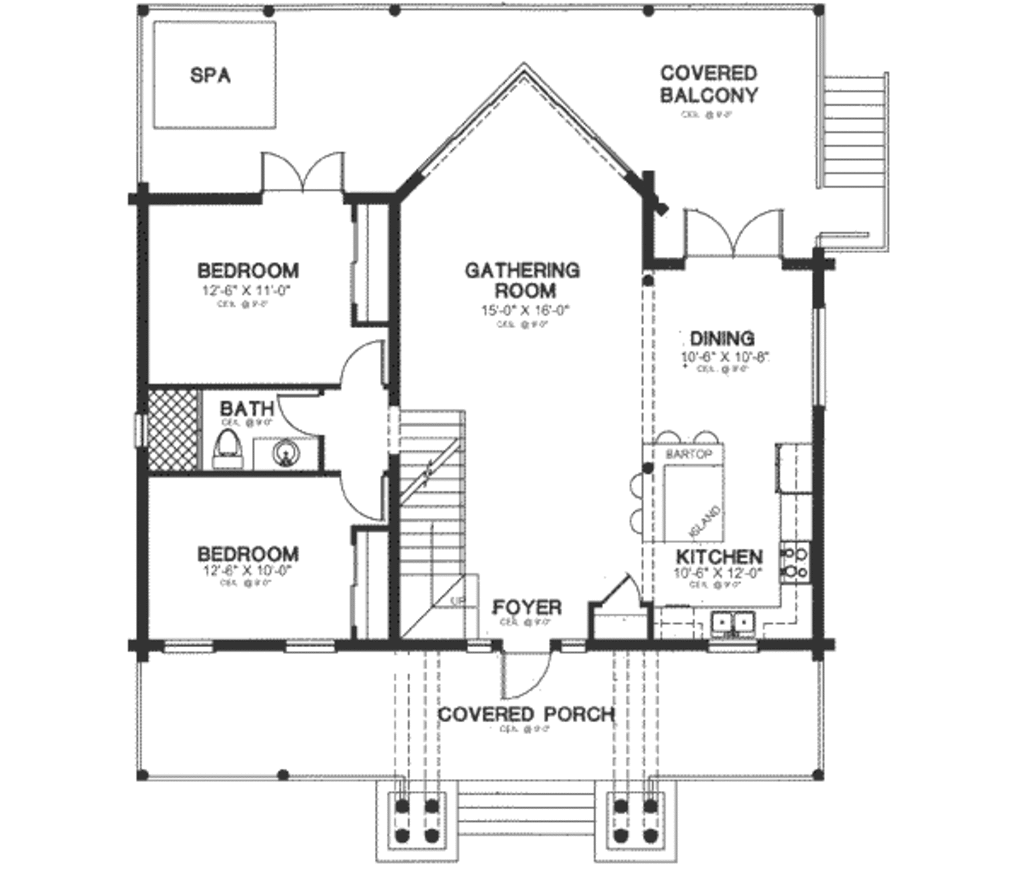door: (677, 196, 794, 266), (252, 148, 353, 200), (491, 623, 555, 701), (327, 462, 389, 529), (337, 330, 399, 389), (264, 383, 325, 437), (598, 564, 648, 621)
kitchen_bar: (623, 429, 736, 551)
large_sink: (199, 414, 249, 471)
small_sink: (248, 430, 318, 471)
stairs: (402, 405, 483, 637), (814, 68, 897, 261)
twin_sink: (690, 591, 767, 664)
window: (271, 628, 340, 658), (160, 630, 218, 659), (128, 408, 158, 444)
